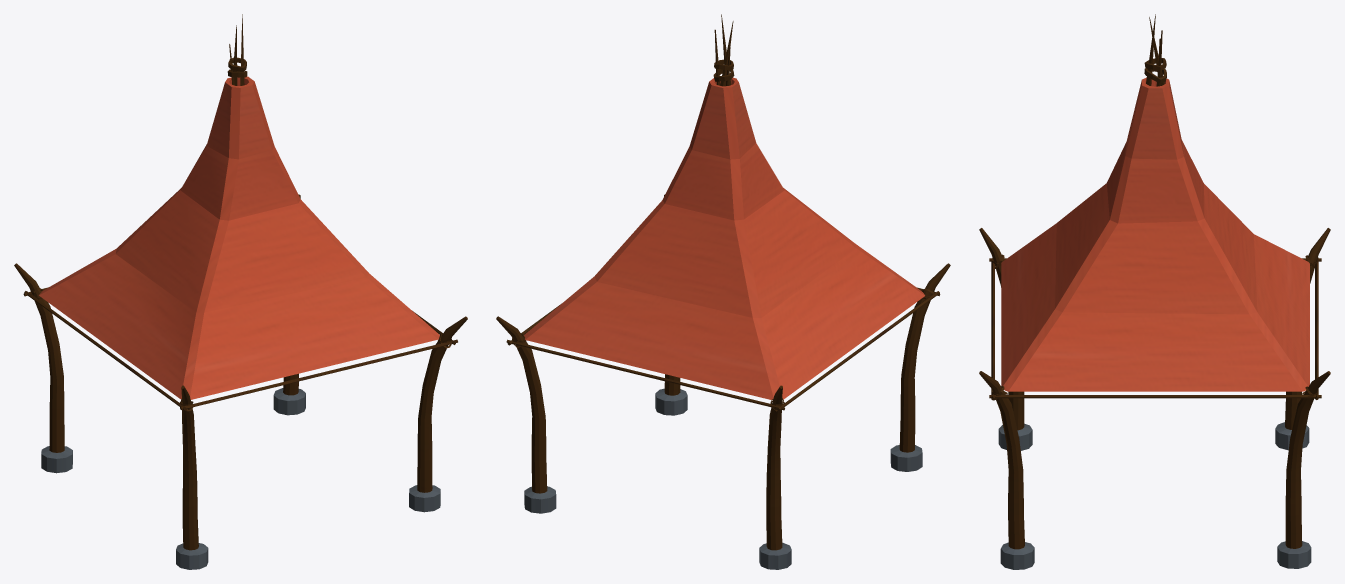
File: BarbarianTent.fbx
3 renders of one model, left to right at view 1: azimuth 30°, elevation 25°; view 2: azimuth 150°, elevation 25°; view 3: azimuth 270°, elevation 25°, orthographic. The views are drawn at different scales.
Parts seen in each view (by area): view 1: BarbarianTent; view 2: BarbarianTent; view 3: BarbarianTent.
Boxes of the visible parts, x1,y1,x2,y2 form: BarbarianTent: (14, 14, 467, 569); BarbarianTent: (496, 14, 950, 569); BarbarianTent: (979, 14, 1330, 569).
Bounding box in the file's own units: 6.59 × 10.37 × 6.74.
1 material, 1 textured.
